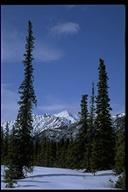mountain: (33, 106, 80, 141)
sky: (38, 9, 121, 53)
snow: (40, 171, 88, 185)
tree: (4, 18, 42, 183), (76, 57, 116, 173)
